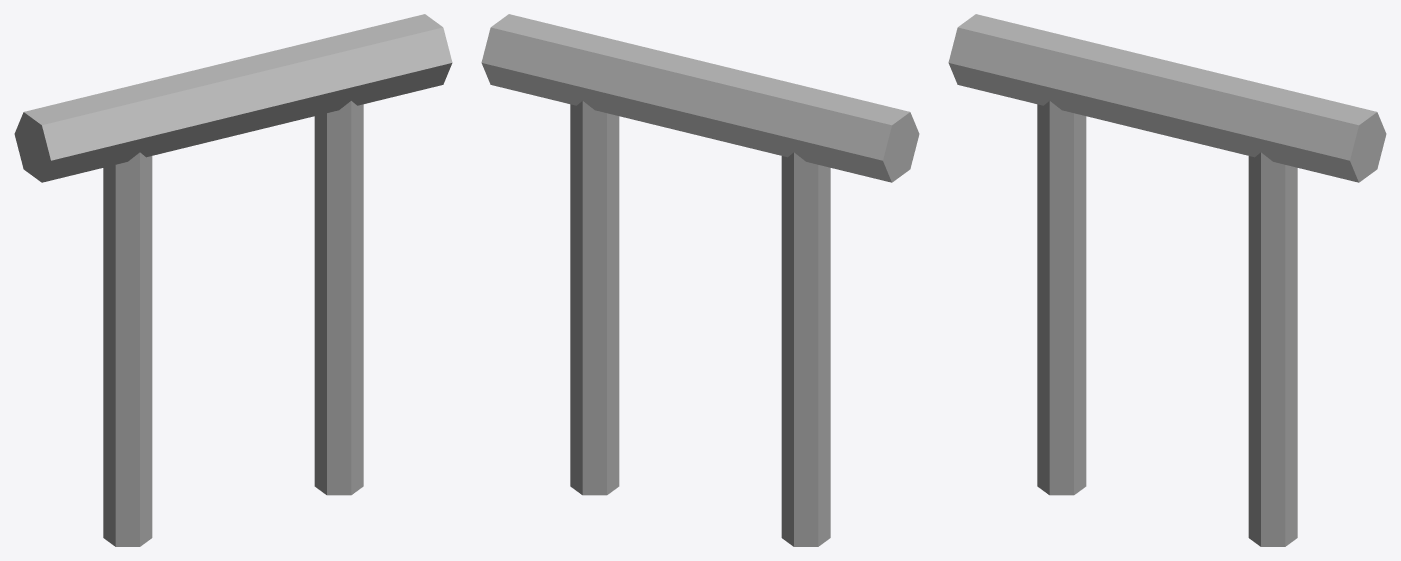
The model's file is AtrilCutre.fbx.
3 views of the same model, side by side, from view 1: azimuth 30°, elevation 25°; view 2: azimuth 150°, elevation 25°; view 3: azimuth 330°, elevation 25° (orthographic).
Parts seen in each view (by area): view 1: Cylinder003; view 2: Cylinder003; view 3: Cylinder003.
Part boxes in pixels (x1,y1,x2,y2): Cylinder003: (14,14,452,546); Cylinder003: (481,14,919,546); Cylinder003: (948,14,1386,546).
Bounding box in the file's own units: 95 × 100 × 15.
